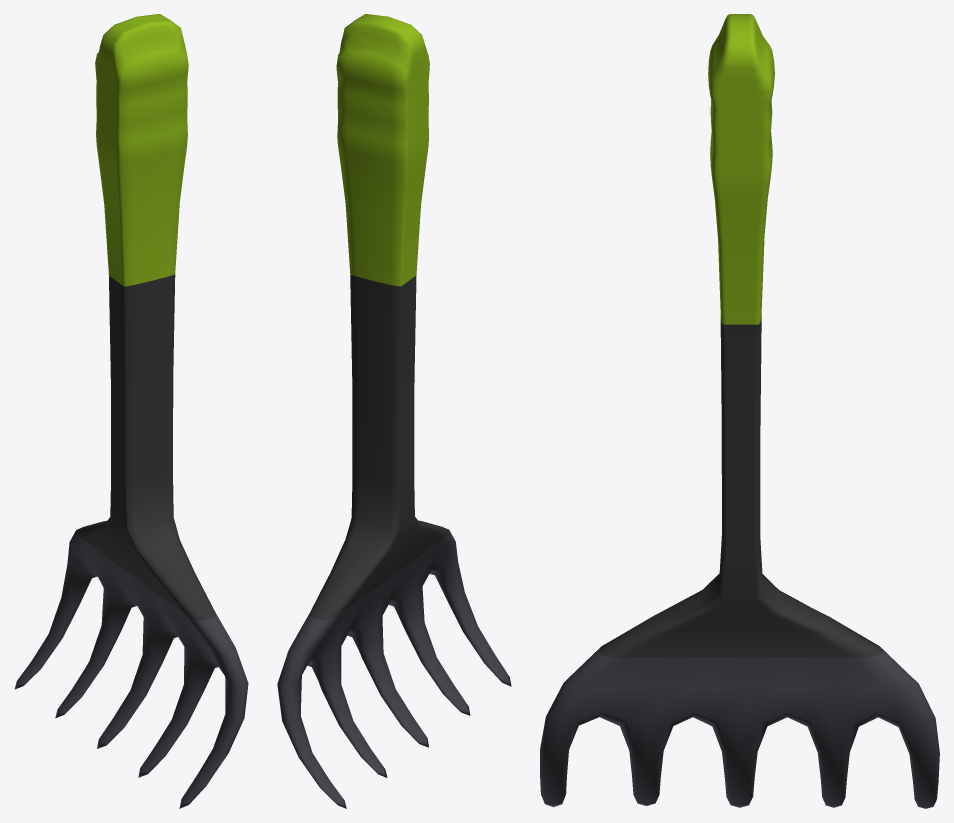
Rendered from rake.glb.
The picture shows the model from 3 angles, left to right: view 1: azimuth 30°, elevation 25°; view 2: azimuth 150°, elevation 25°; view 3: azimuth 270°, elevation 25°; orthographic projection. The views are drawn at different scales.
Visible parts, largest first — view 1: Plane; view 2: Plane; view 3: Plane.
Part boxes in pixels (<box>): Plane: <box>14,14,248,808</box>; Plane: <box>277,14,511,808</box>; Plane: <box>540,14,939,808</box>.
Bounding box in the file's own units: 0.4136 × 3.54 × 1.58.
